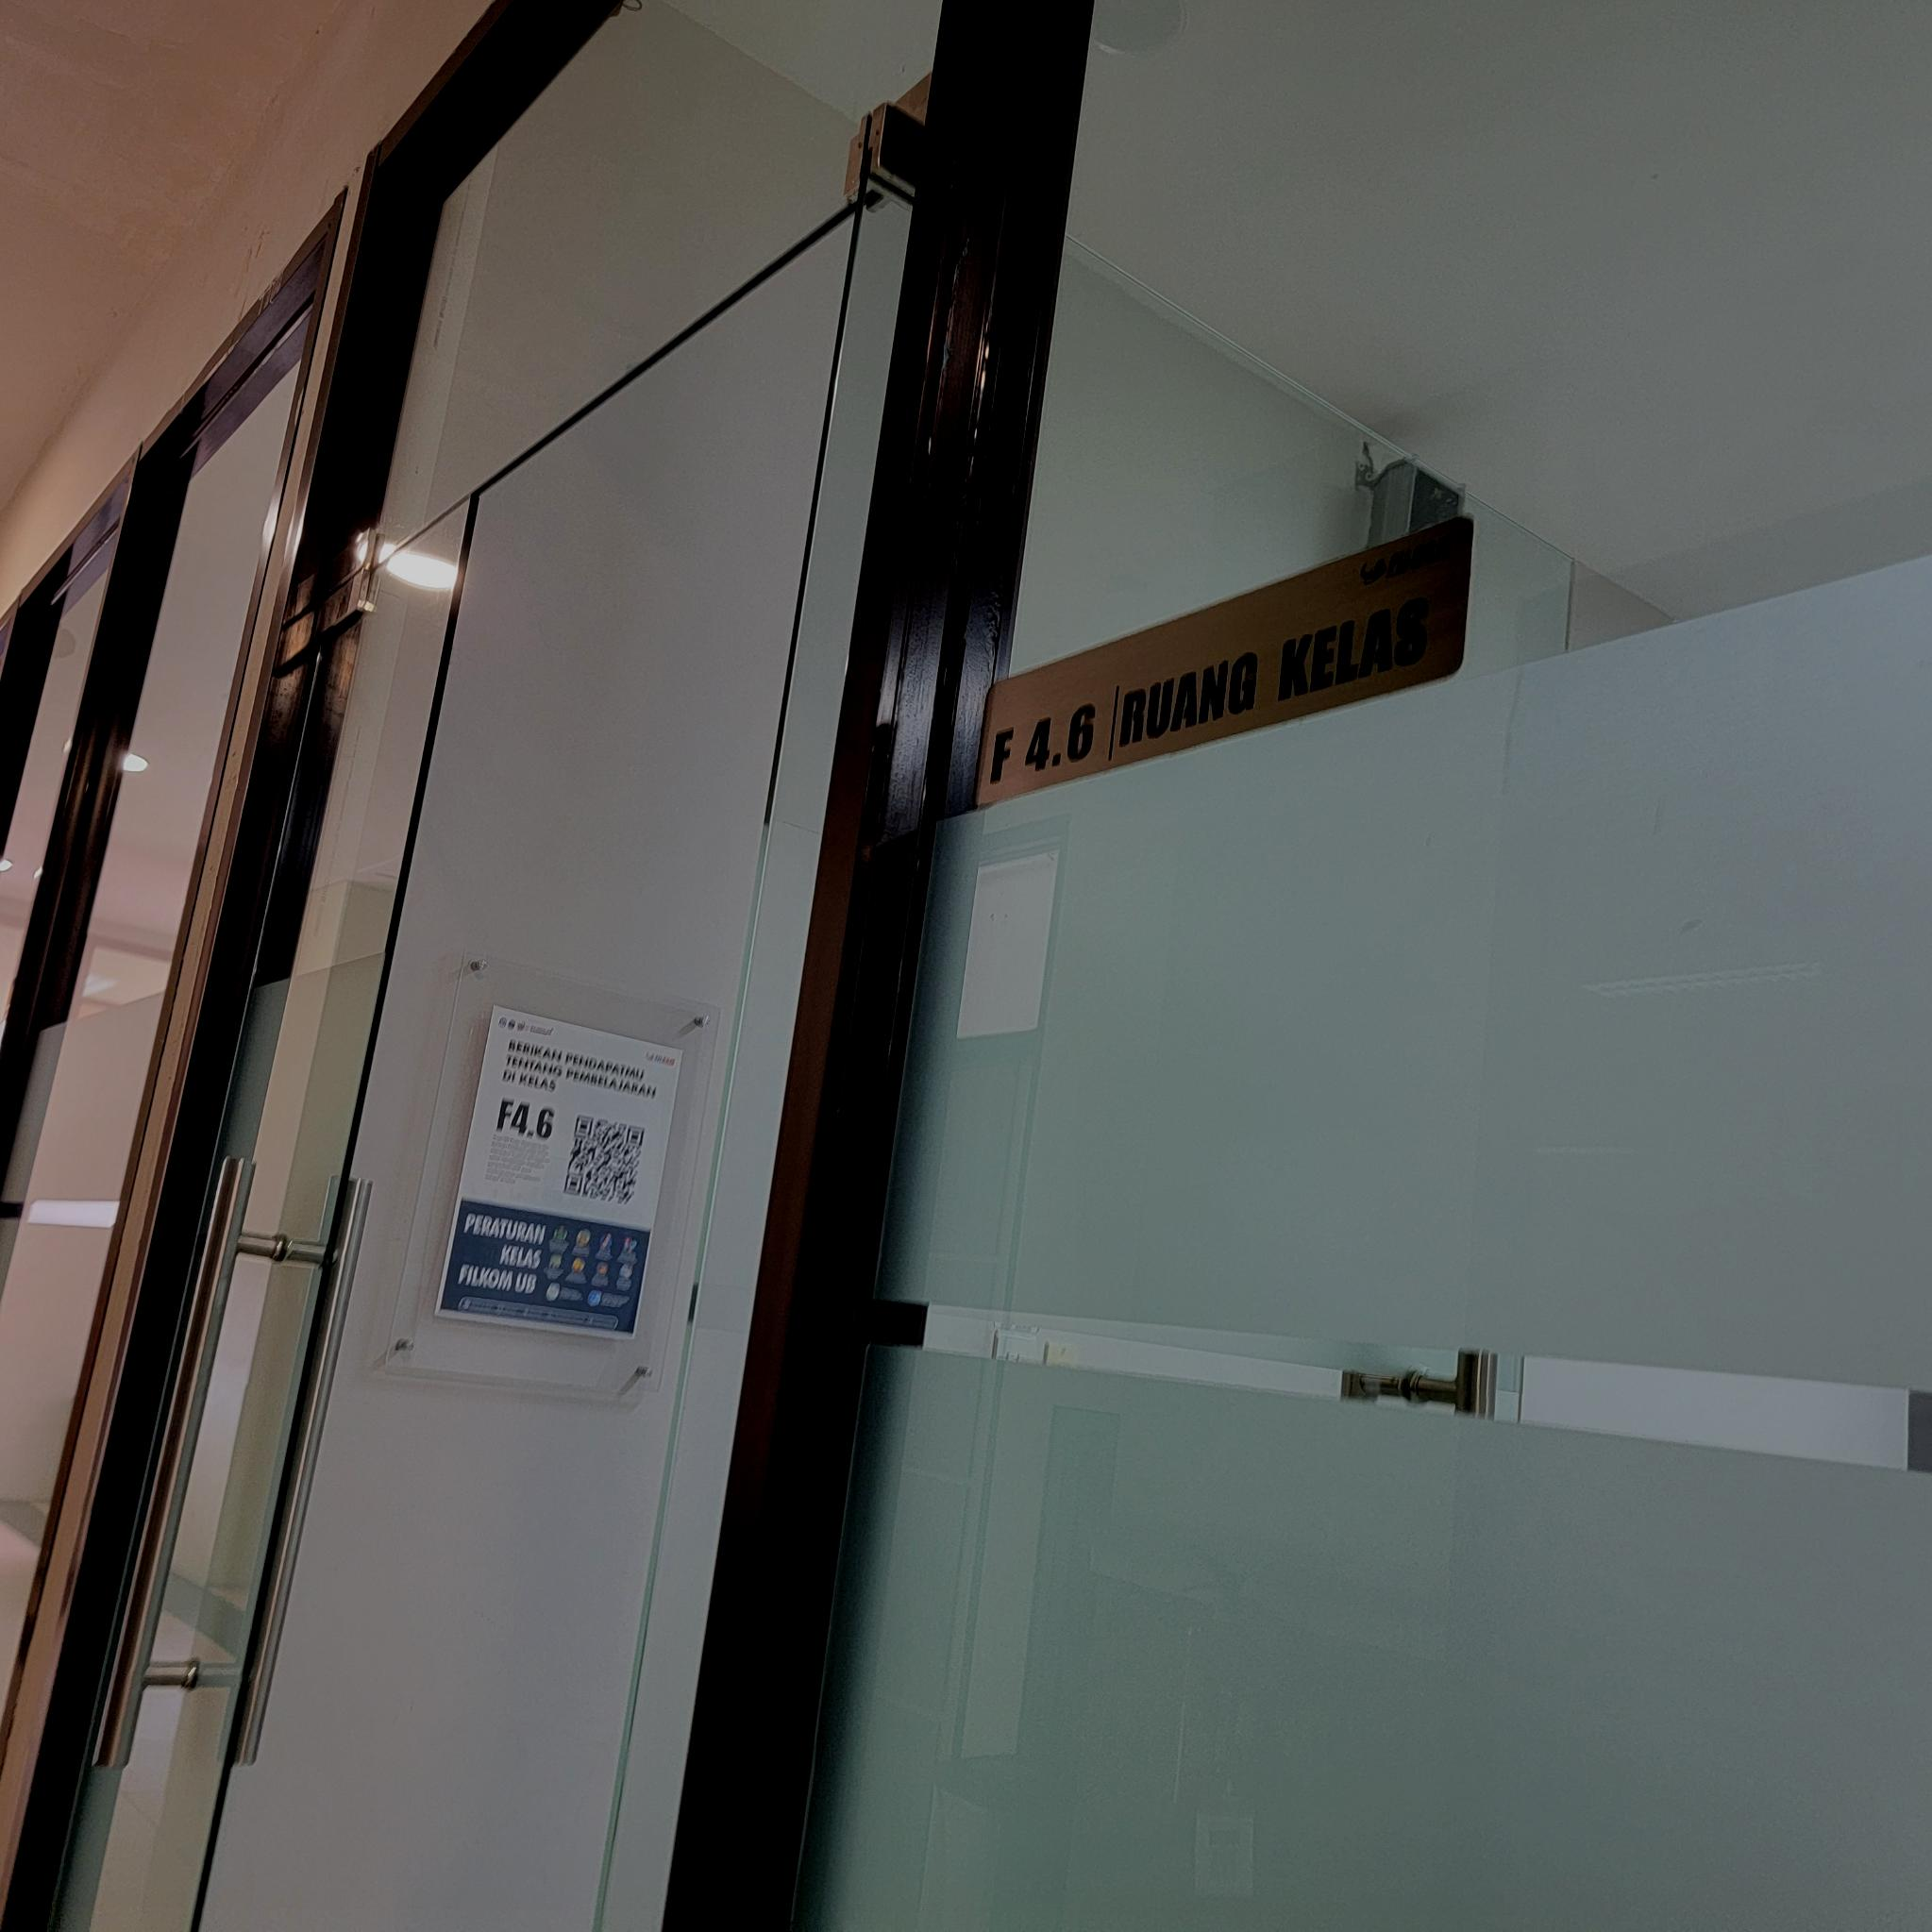plate: (971, 515, 1472, 810)
